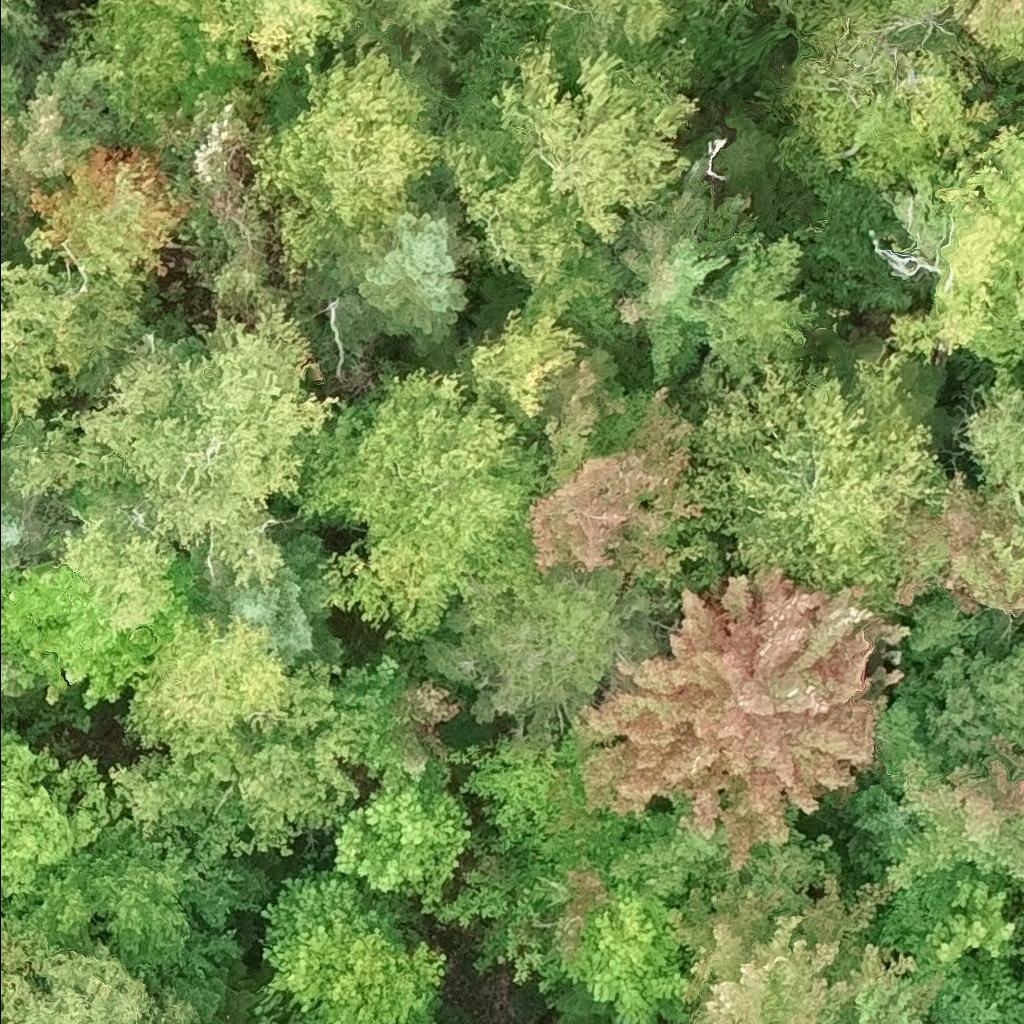crown: (571, 564, 910, 873), (7, 299, 343, 586), (292, 363, 554, 641), (687, 350, 950, 612), (104, 611, 374, 866), (666, 829, 916, 1023), (250, 37, 449, 269), (490, 34, 705, 244), (783, 0, 1005, 187), (411, 564, 656, 728), (524, 381, 714, 588), (887, 121, 1023, 377), (454, 247, 634, 437), (440, 86, 603, 288), (0, 226, 148, 444), (256, 860, 449, 1023), (62, 0, 259, 133), (619, 192, 750, 381), (0, 560, 158, 711), (0, 48, 128, 232), (190, 519, 343, 671), (883, 735, 1023, 898), (352, 185, 481, 360), (0, 727, 126, 904), (198, 0, 456, 76), (896, 464, 1023, 615), (333, 779, 473, 912), (552, 885, 686, 1023), (706, 227, 825, 382), (0, 941, 224, 1023), (524, 343, 648, 486), (334, 652, 462, 788), (493, 0, 678, 78), (959, 363, 1023, 535), (923, 876, 1017, 964), (836, 765, 918, 861), (0, 442, 37, 574), (947, 0, 1023, 64), (0, 0, 46, 59), (988, 957, 1023, 1023), (0, 643, 37, 704), (1005, 944, 1023, 972), (0, 401, 6, 424)
